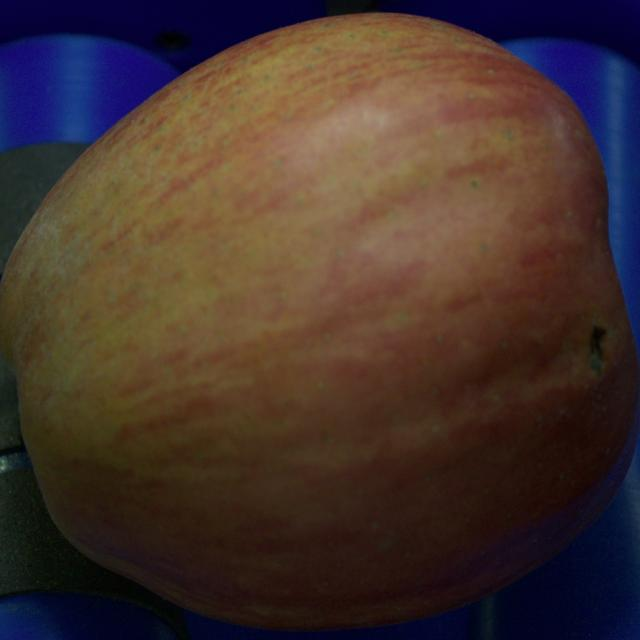apple: (0, 14, 638, 629)
pest: (589, 326, 606, 374)
